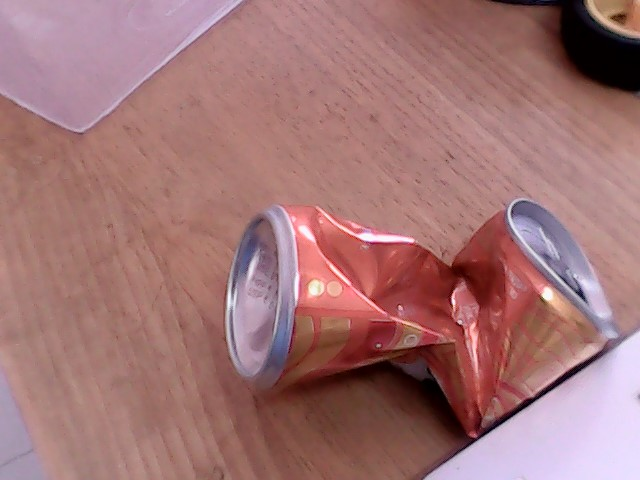Metal: (226, 169, 632, 407)
